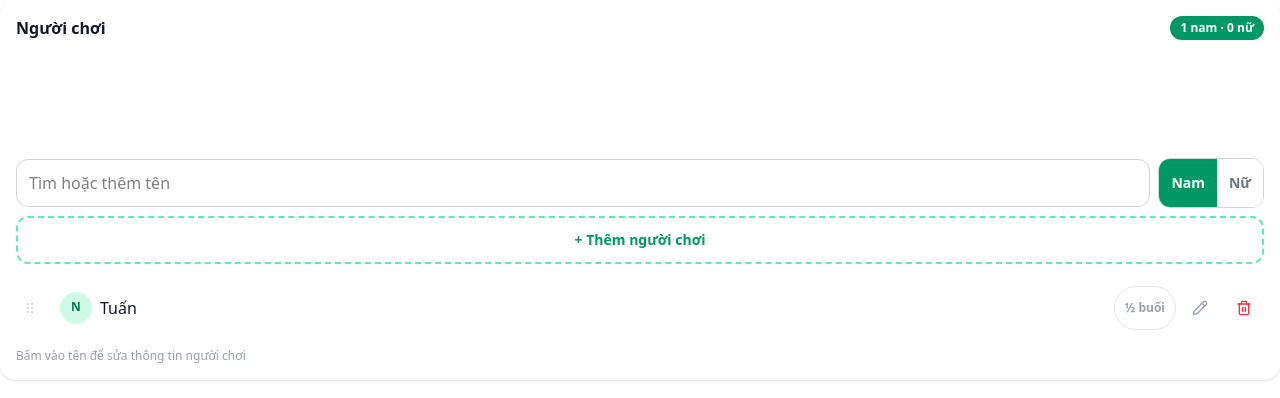
Test: clicking the gender badge toggles the player gender and updates the count chip
Expected: the text "1 nam · 0 nữ" is shown, x1=1170 y1=16 x2=1264 y2=40
Click the button named "Đổi giới tính Tuấn".
click(76, 308)  # box x1=54 y1=286 x2=98 y2=330
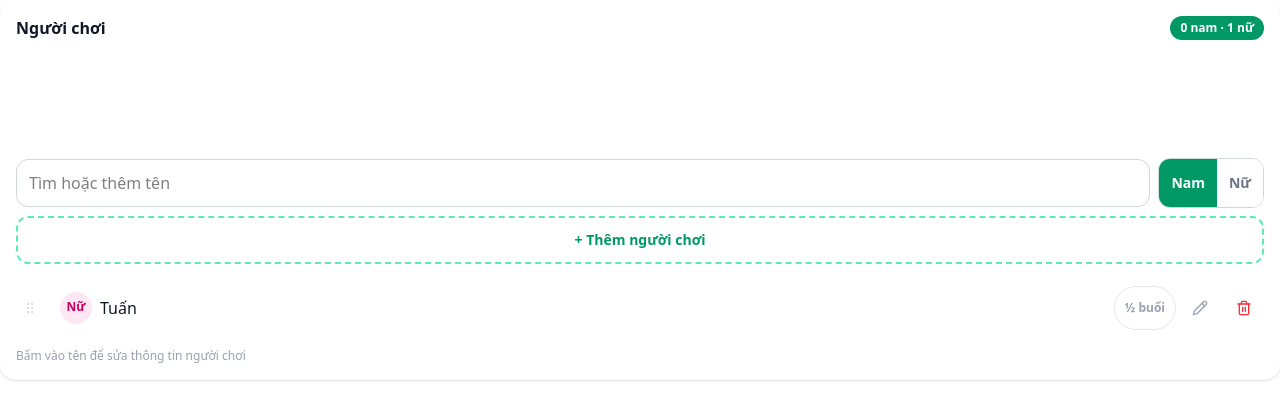
Expected: the text "0 nam · 1 nữ" is shown, x1=1170 y1=16 x2=1264 y2=40
// toggling back works too, and the badge button is still reachable by the same label
Click the button with aria-label "Đổi giới tính Tuấn".
click(76, 308)  # box x1=54 y1=286 x2=98 y2=330
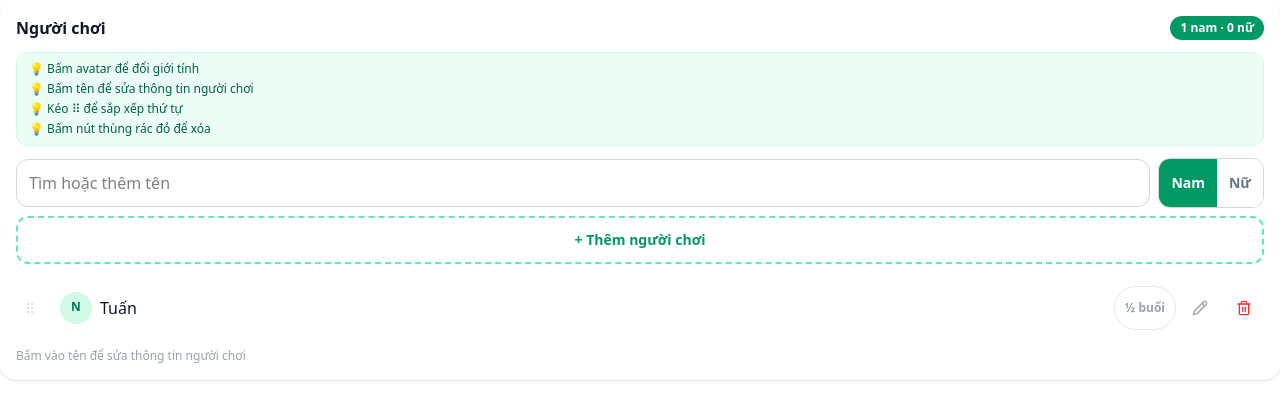
Expected: the text "1 nam · 0 nữ" is shown, x1=1170 y1=16 x2=1264 y2=40
